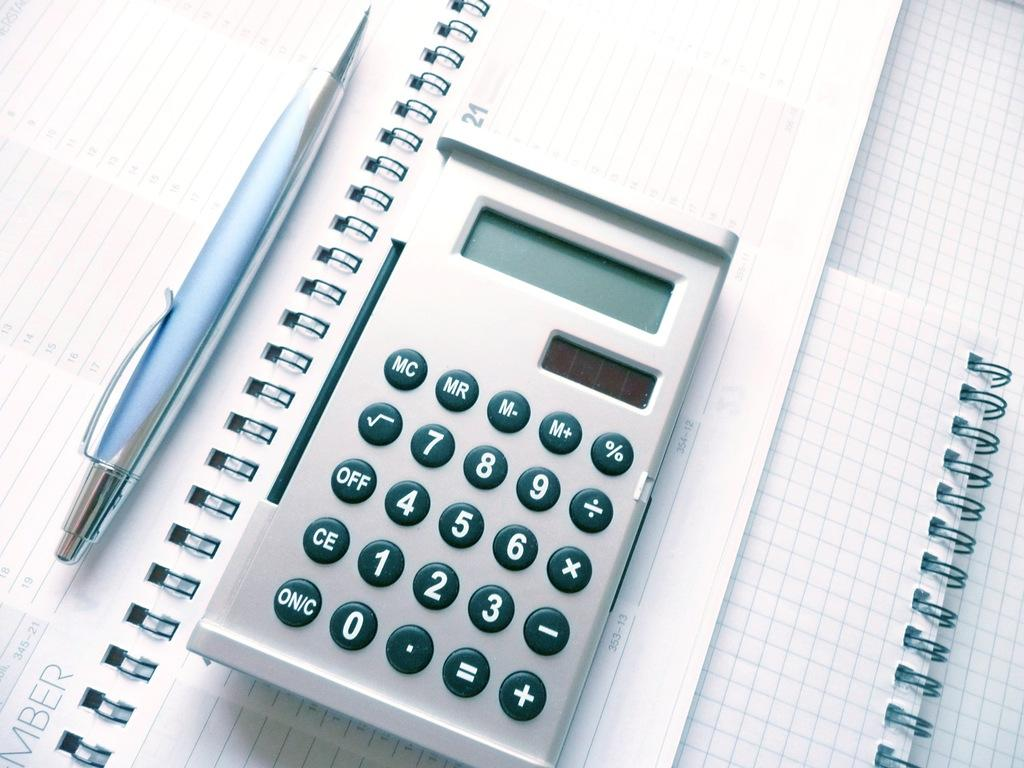pen: (42, 0, 378, 561)
